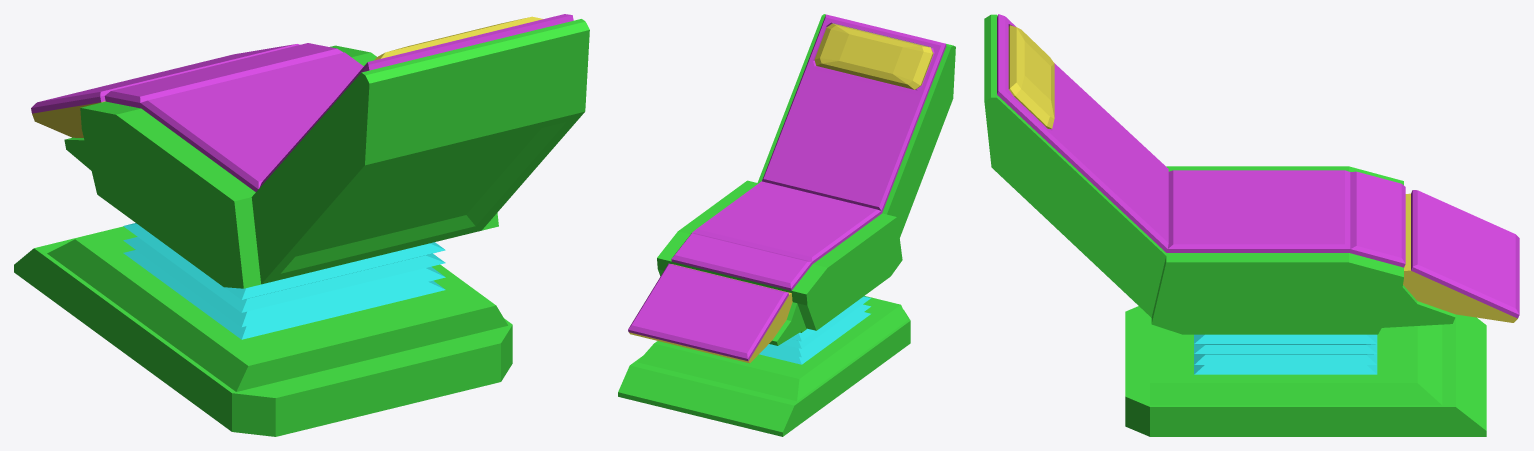
File: Chair_07_Ripperdocs_C.fbx
3 views of the same model, side by side, from view 1: azimuth 30°, elevation 25°; view 2: azimuth 150°, elevation 25°; view 3: azimuth 270°, elevation 25° (orthographic). The views are drawn at different scales.
Visible parts, largest first — view 1: Chair_07_Ripperdocs_C; view 2: Chair_07_Ripperdocs_C; view 3: Chair_07_Ripperdocs_C.
Boxes of the visible parts, box(x1,y1,x2,y2) form: Chair_07_Ripperdocs_C: box(14, 14, 589, 436); Chair_07_Ripperdocs_C: box(618, 14, 955, 436); Chair_07_Ripperdocs_C: box(984, 14, 1519, 436).
Size of what is drawn, in the model's own units: 110 by 161 by 235.
